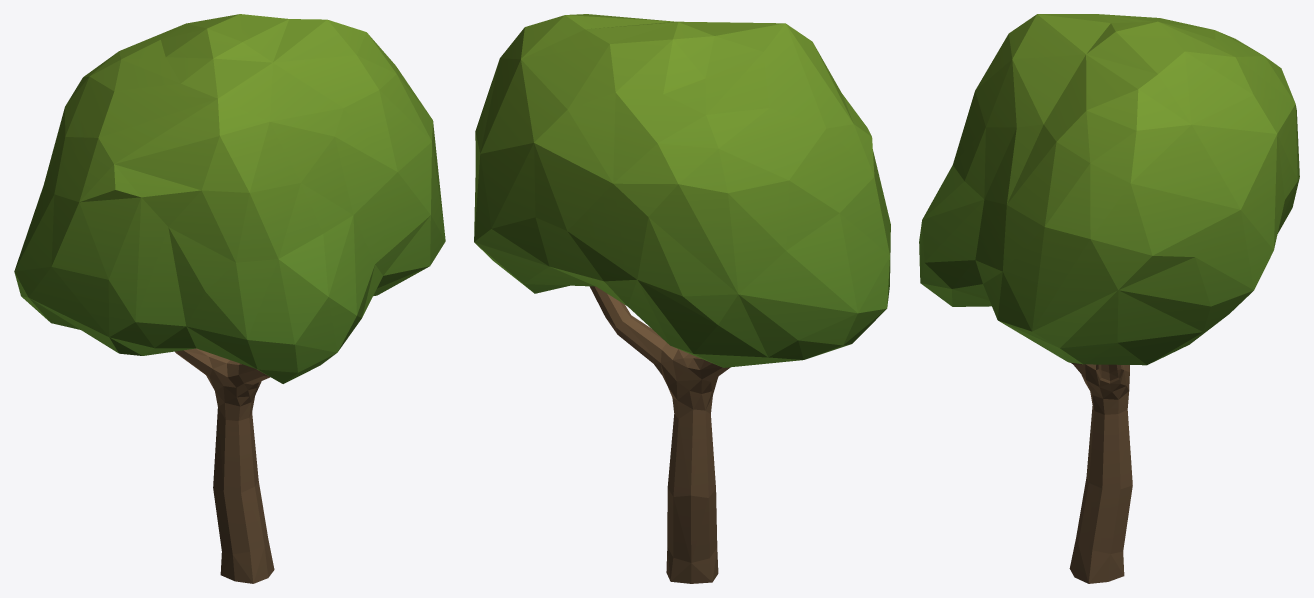
The model's file is Mesh_Nature_Tree_04.FBX.
The picture shows the model from 3 angles, left to right: view 1: azimuth 30°, elevation 25°; view 2: azimuth 150°, elevation 25°; view 3: azimuth 270°, elevation 25°; orthographic projection. The views are drawn at different scales.
Visible parts, largest first — view 1: Mesh_Nature_Tree_04; view 2: Mesh_Nature_Tree_04; view 3: Mesh_Nature_Tree_04.
Part boxes in pixels (<box>): Mesh_Nature_Tree_04: <box>14,14,445,583</box>; Mesh_Nature_Tree_04: <box>474,14,890,583</box>; Mesh_Nature_Tree_04: <box>919,14,1299,583</box>.
Size of what is drawn, in the model's own units: 378 by 313 by 495.
